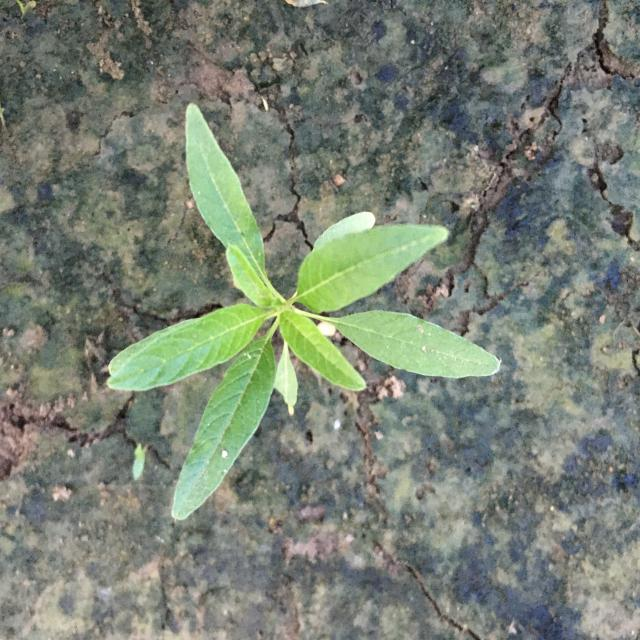Waterhemp: (107, 102, 500, 520)
